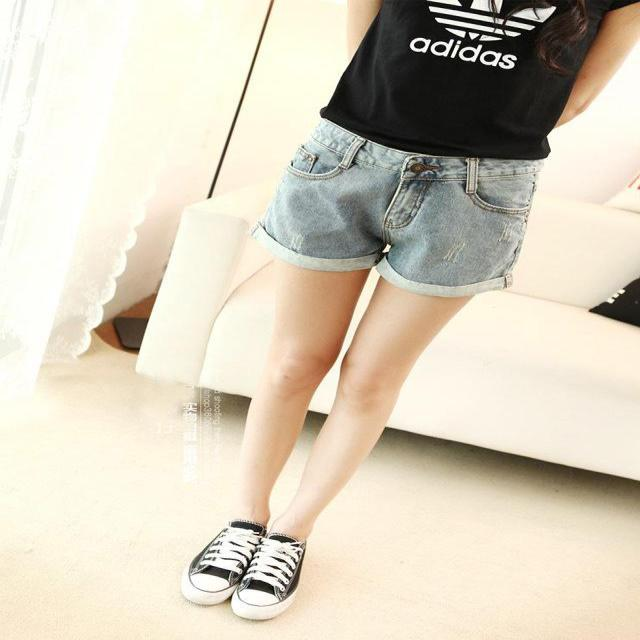shorts: (244, 107, 536, 326)
